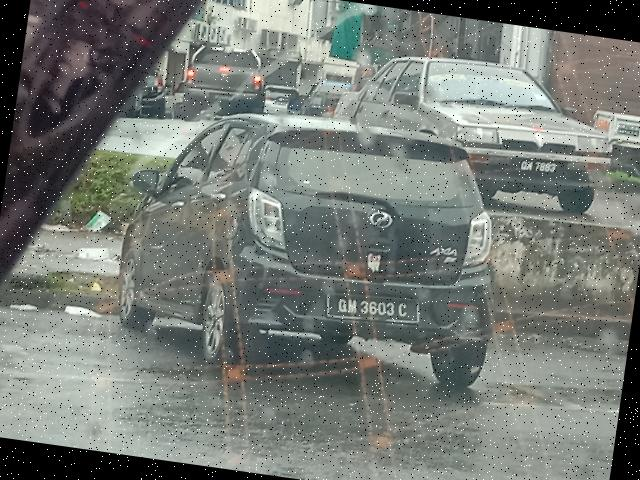License_Plate: (325, 288, 423, 332), (512, 155, 570, 180)
car: (107, 90, 525, 410), (321, 36, 618, 219)
